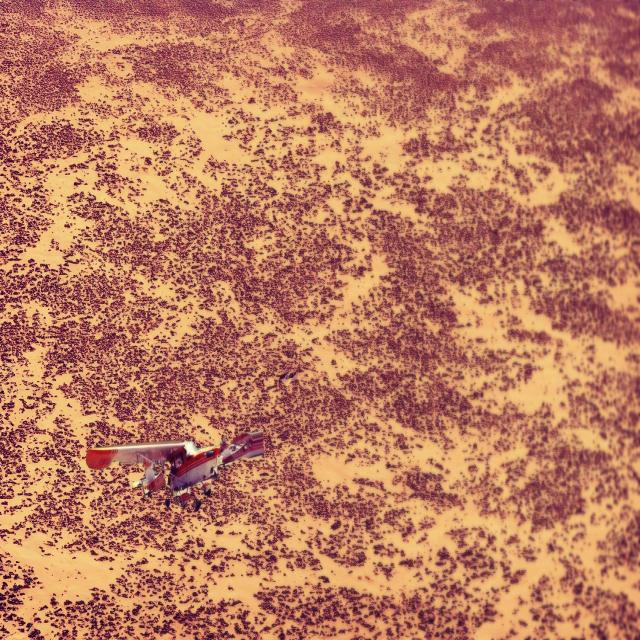airplane: (85, 429, 264, 508)
